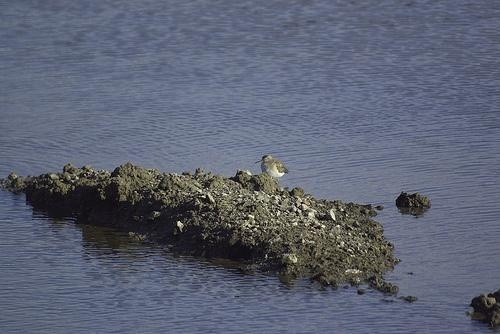bird: (256, 155, 290, 178)
